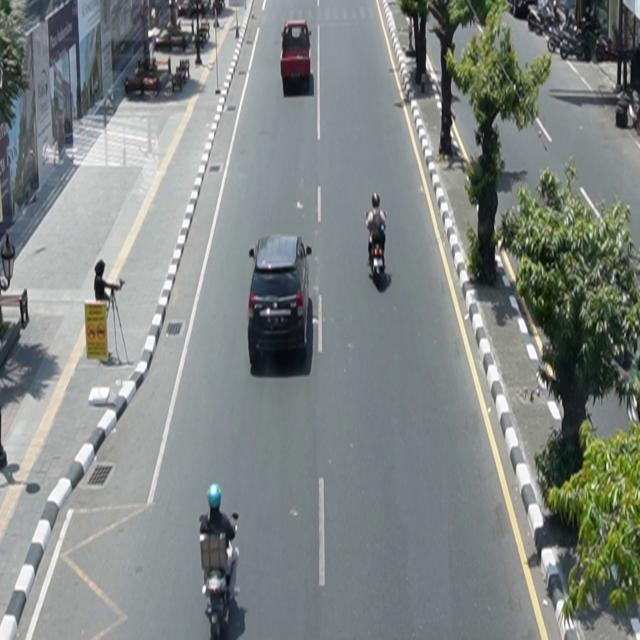car: (248, 234, 313, 365), (281, 20, 313, 90)
